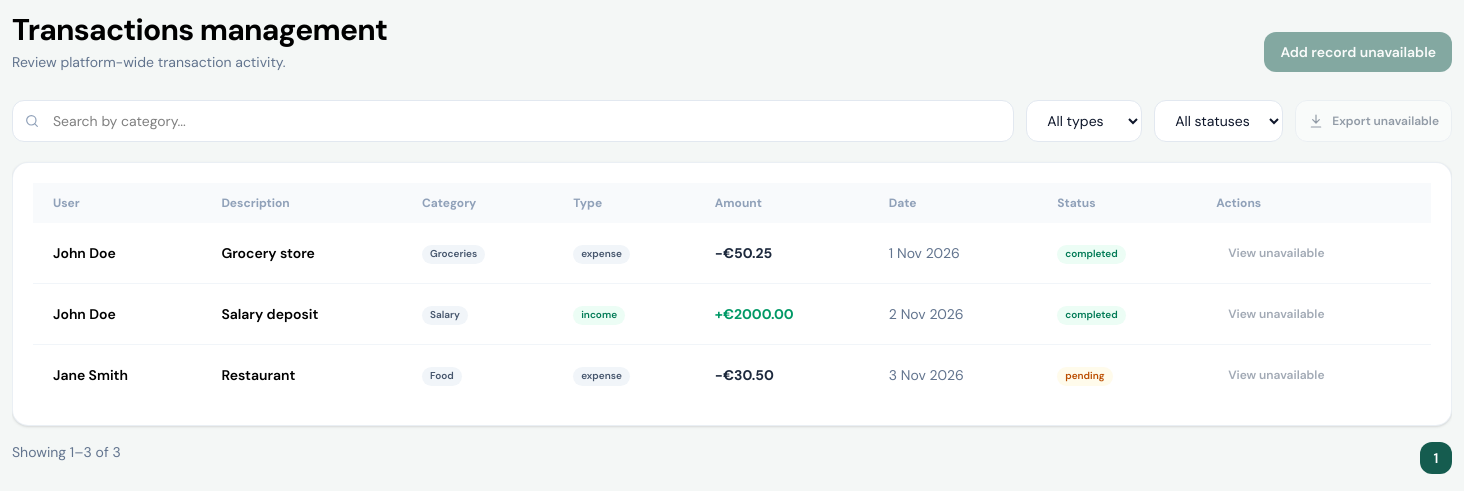
Test case: AdminTransactions › prevents stale responses after filter change
The image size is (1464, 491).
expect the text "Grocery store" is shown: met, box [201,223,402,284]
Select "Income" in the dropdown named "Filter by transaction type" at (1084, 121), box [1026,100,1142,142]
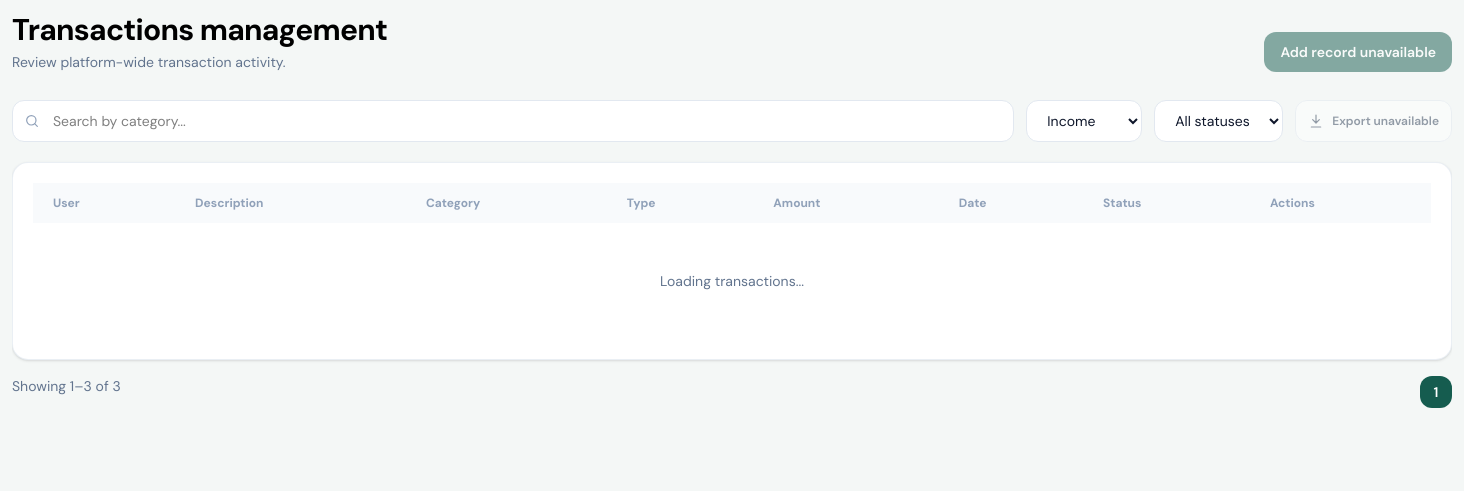
Select "Pending" in the dropdown named "Filter by transaction status" at (1219, 121), box [1154,100,1283,142]
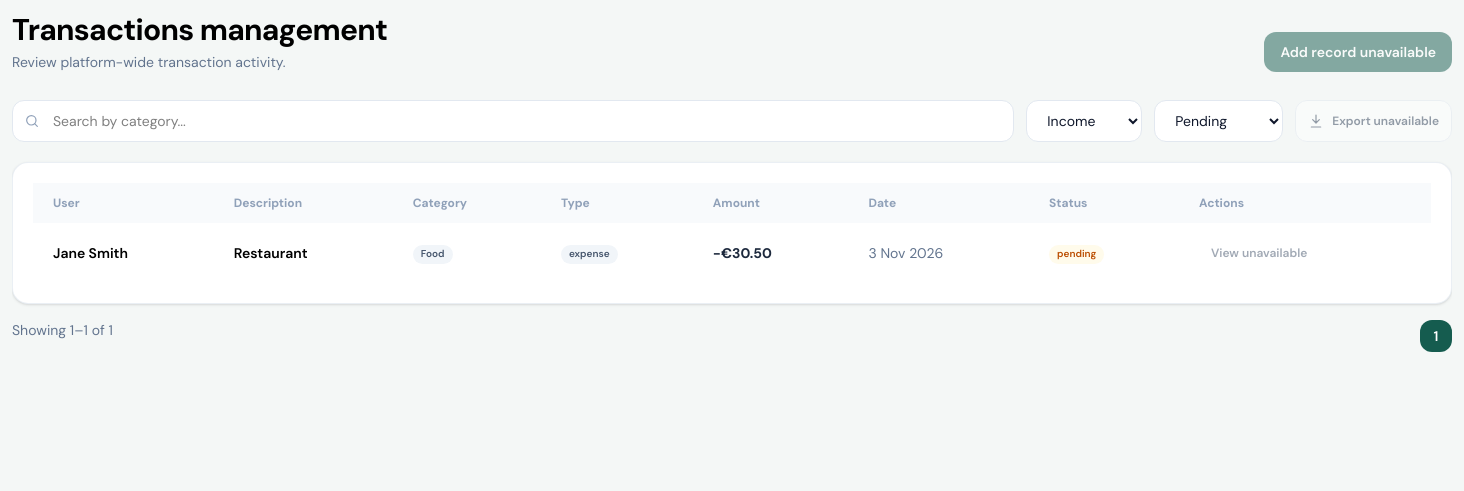
expect the text "Restaurant" is shown: met, box [214,223,393,283]
